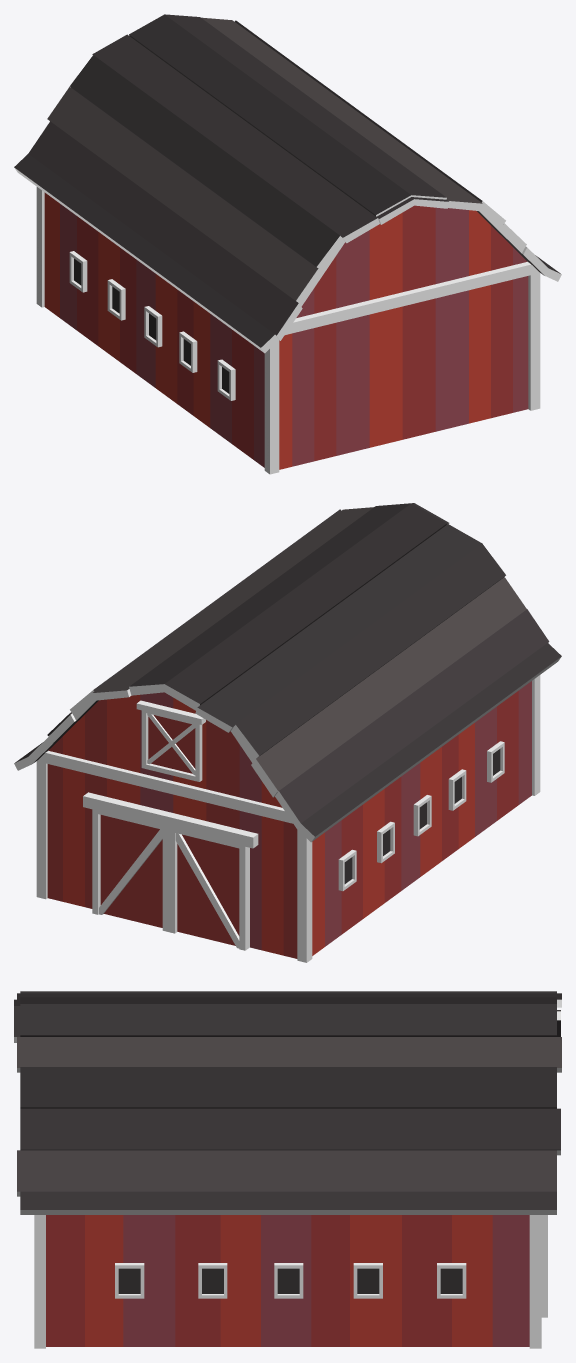
Rendered from ARC0710082.fbx.
3 renders of one model, top to bottom at view 1: azimuth 30°, elevation 25°; view 2: azimuth 150°, elevation 25°; view 3: azimuth 270°, elevation 25°, orthographic. The views are drawn at different scales.
Parts seen in each view (by area): view 1: smARC0710082; view 2: smARC0710082; view 3: smARC0710082.
Part boxes in pixels (<box>): smARC0710082: <box>14,14,561,474</box>; smARC0710082: <box>14,503,561,962</box>; smARC0710082: <box>14,991,561,1348</box>.
Bounding box in the file's own units: 757 × 603 × 1098.
Materials: 1 (1 with a texture image).
